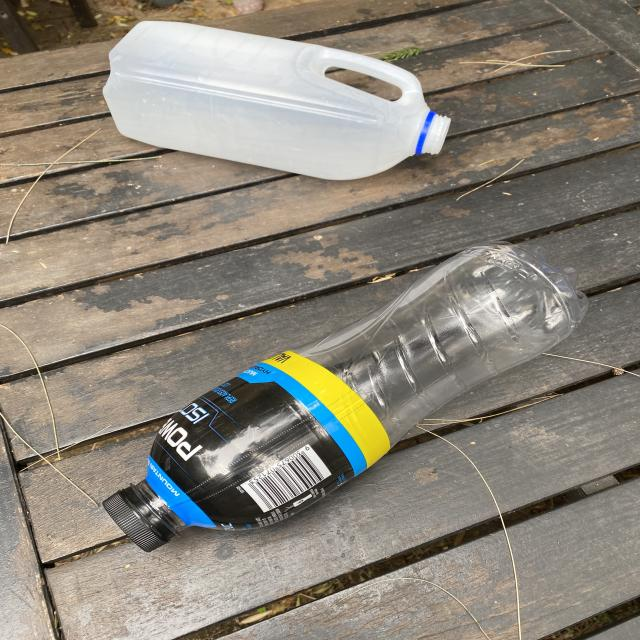bottle: (103, 240, 594, 552), (102, 21, 459, 189)
